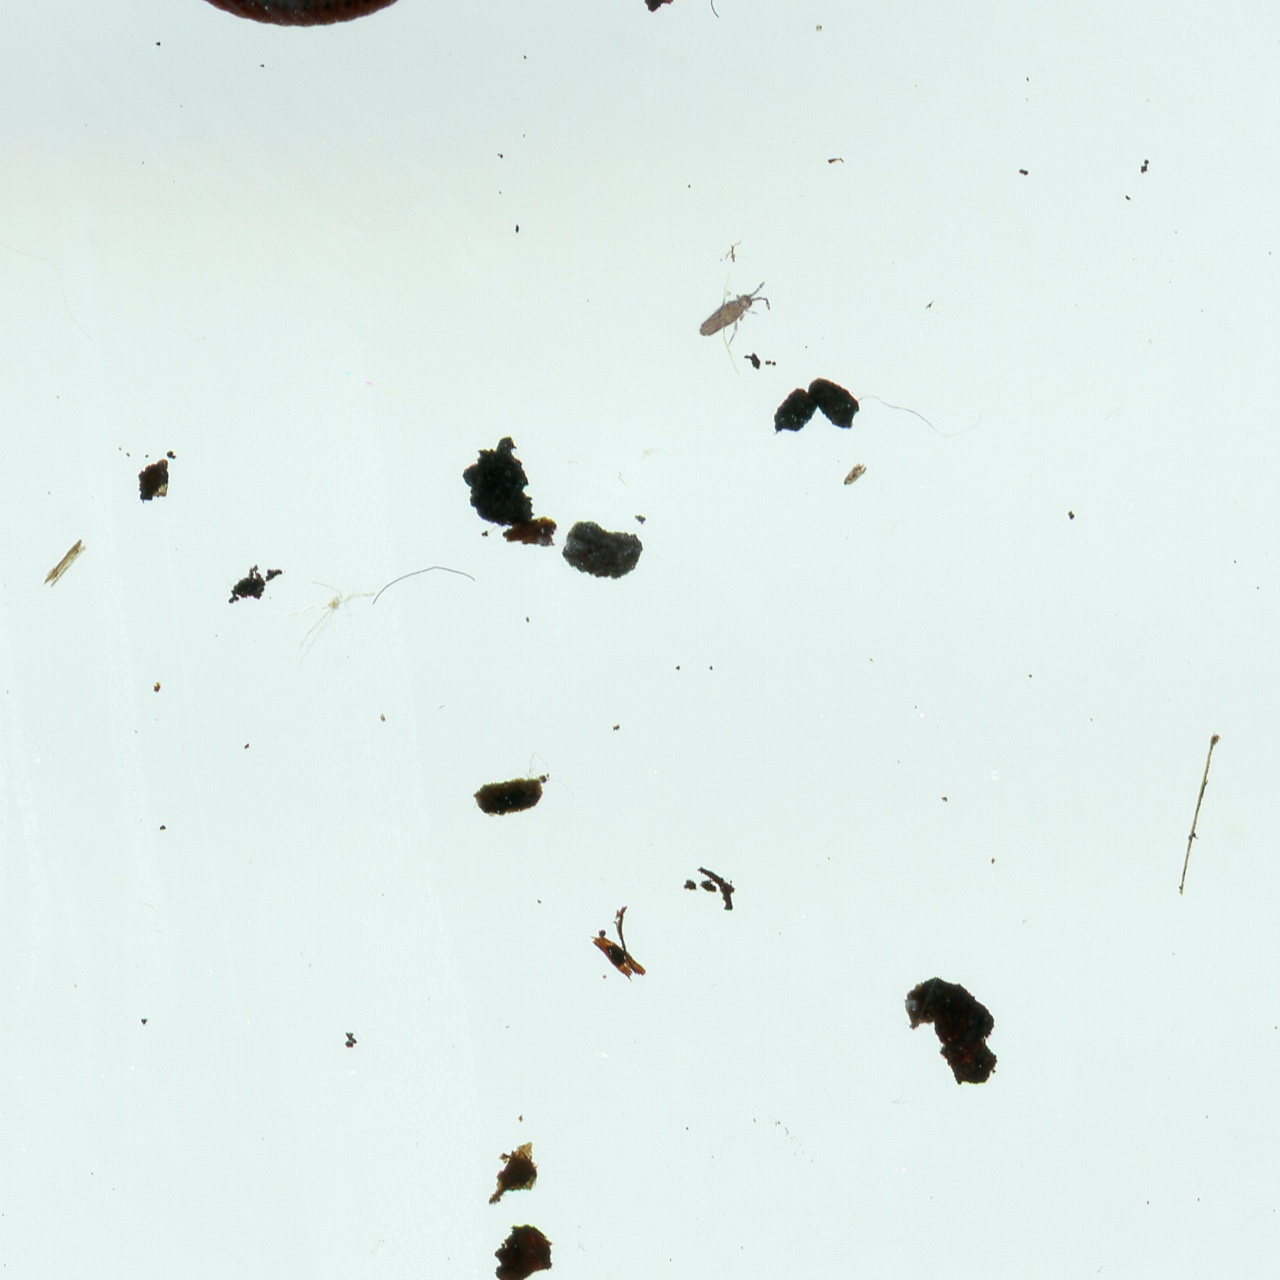arthropod: (691, 280, 773, 341)
